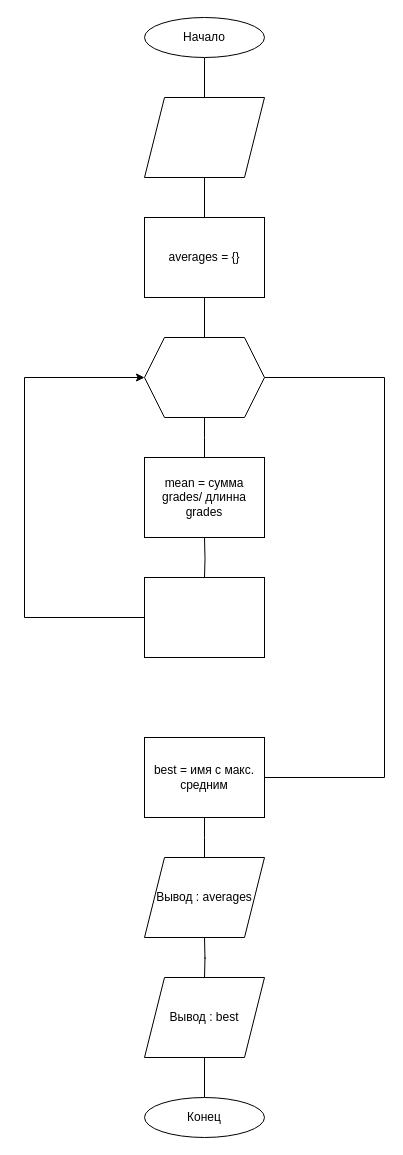
This 403x1155 diagram has some shape labels left out. The centre of each missing label's shape, as x and y in pixels:
averages[name] = mean: the point at 204,617
Данные: список students: the point at 204,137
Для каждого student: the point at 204,377
